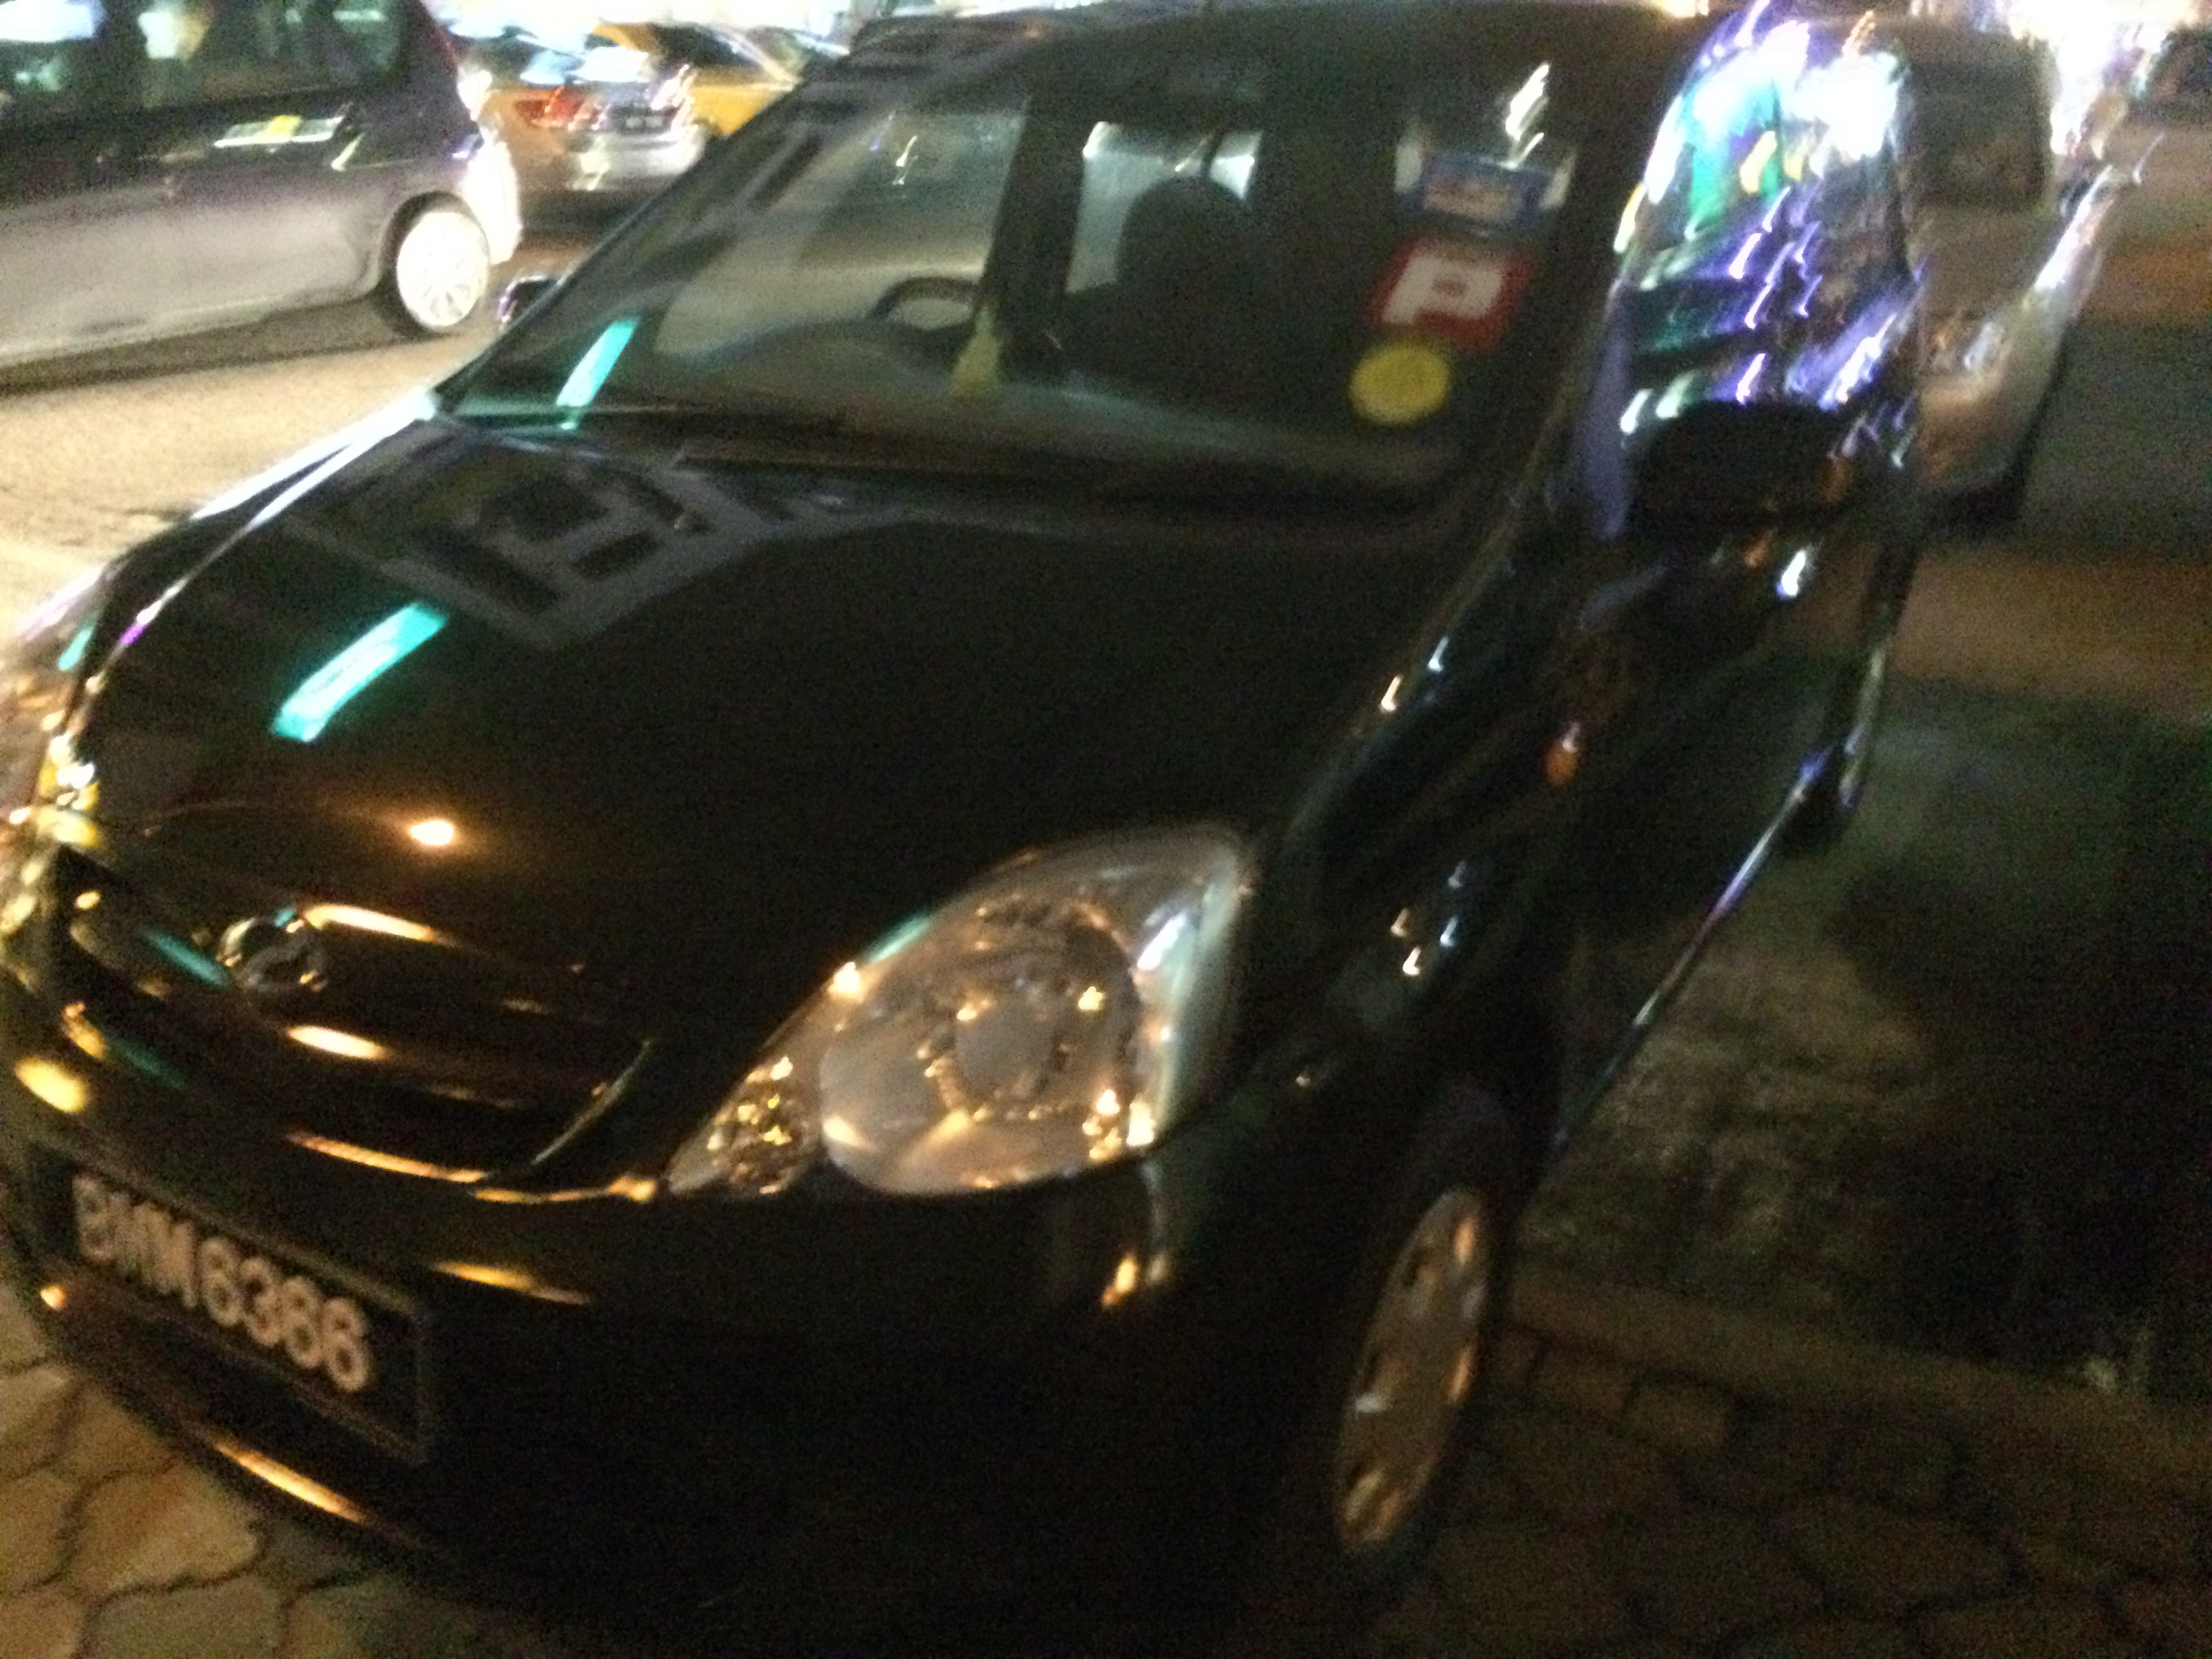car: (10, 14, 1965, 1635)
